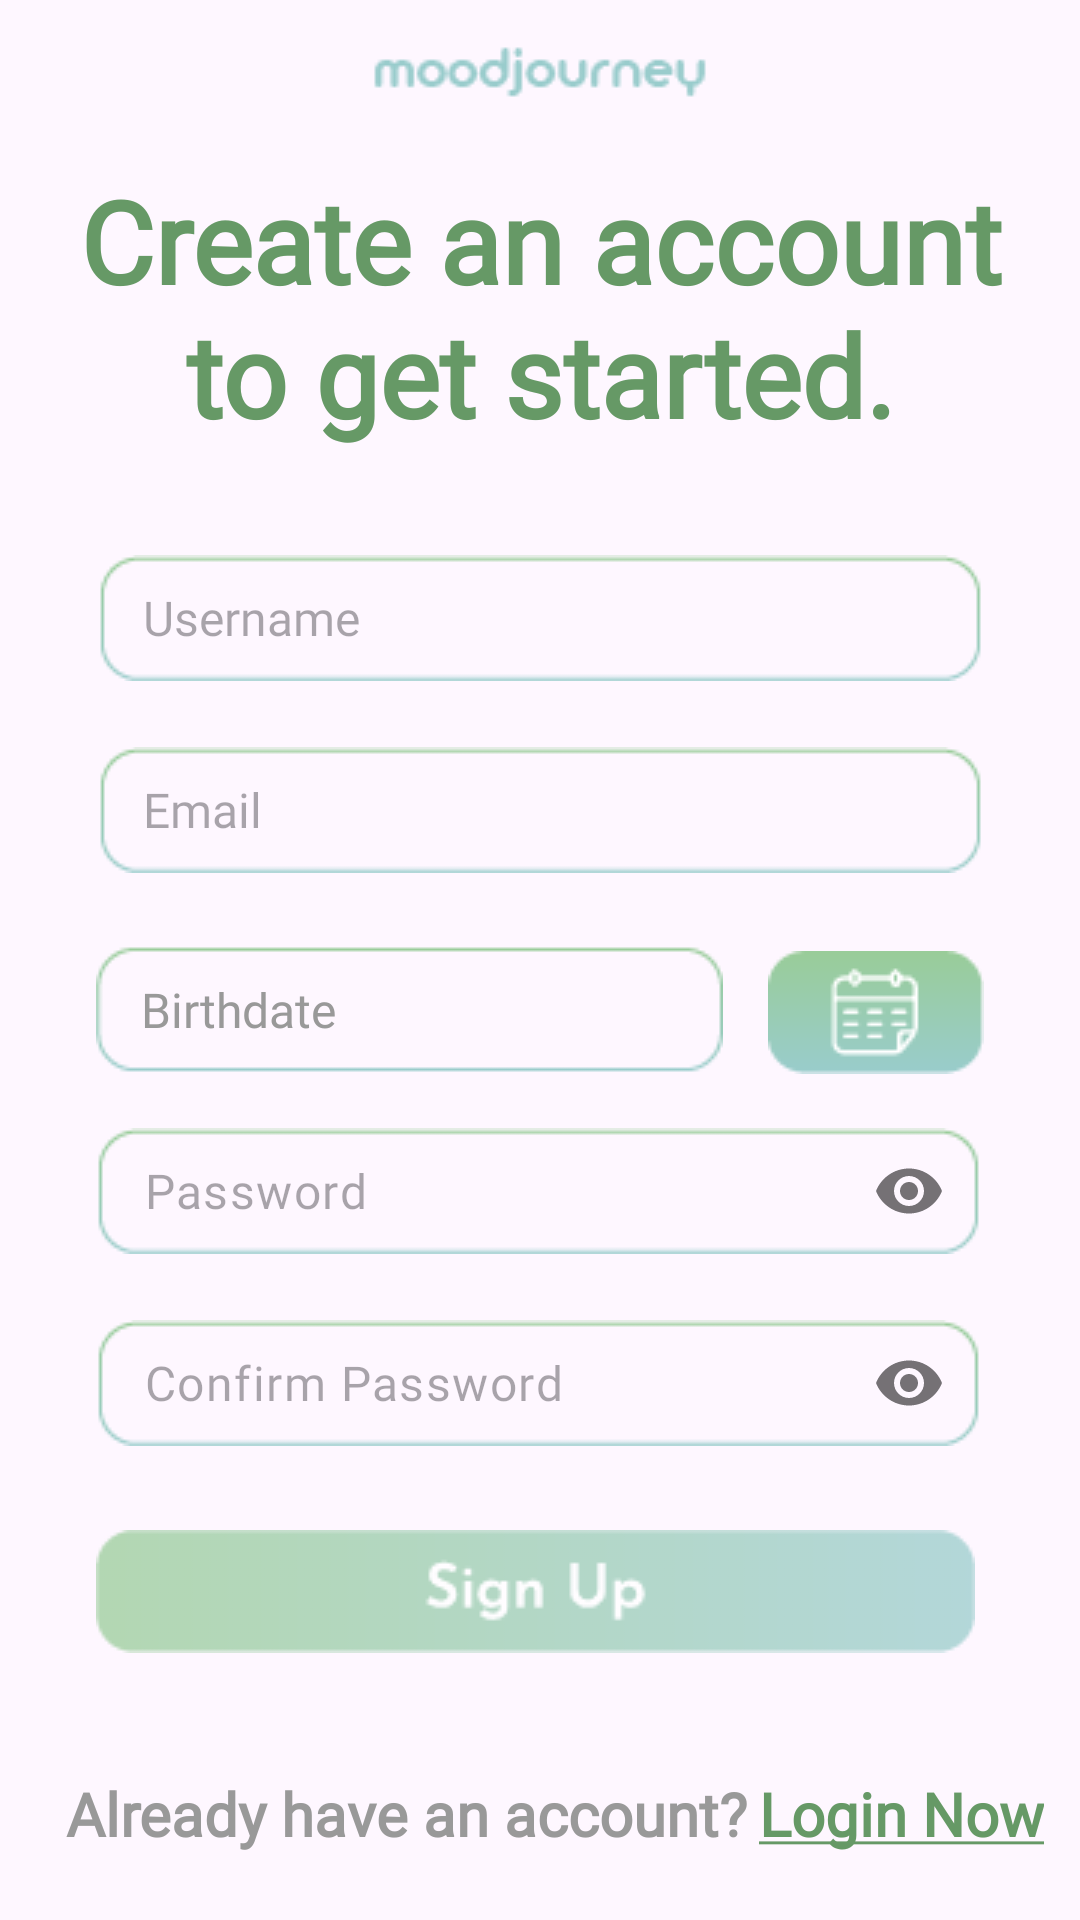

Where icons sit on this 1080×1920 app screen, as (x1, y1, x2, y2):
date picker: (768, 951, 984, 1074)
